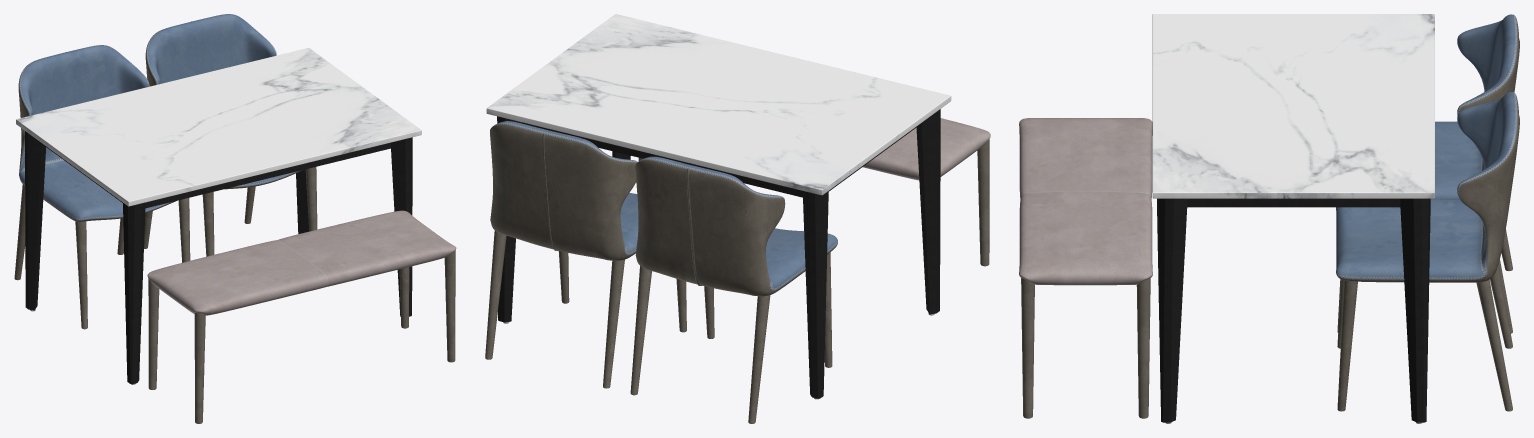
File: MEGA_PACK_Tableset__tableset_402658_Frame_2BlueBenchGray.glb
3 renders of one model, left to right at view 1: azimuth 30°, elevation 25°; view 2: azimuth 150°, elevation 25°; view 3: azimuth 270°, elevation 25°, orthographic. The views are drawn at different scales.
Parts seen in each view (by area): view 1: tableset_402658_Frame_2BlueBenchGray; view 2: tableset_402658_Frame_2BlueBenchGray; view 3: tableset_402658_Frame_2BlueBenchGray.
Part boxes in pixels (box(x1,y1,x2,y2)): tableset_402658_Frame_2BlueBenchGray: box(14, 14, 456, 423); tableset_402658_Frame_2BlueBenchGray: box(485, 14, 990, 423); tableset_402658_Frame_2BlueBenchGray: box(1019, 14, 1519, 423).
Size of the model in its own units: 1.2 by 0.8316 by 1.42.
2 materials, 2 textured.
